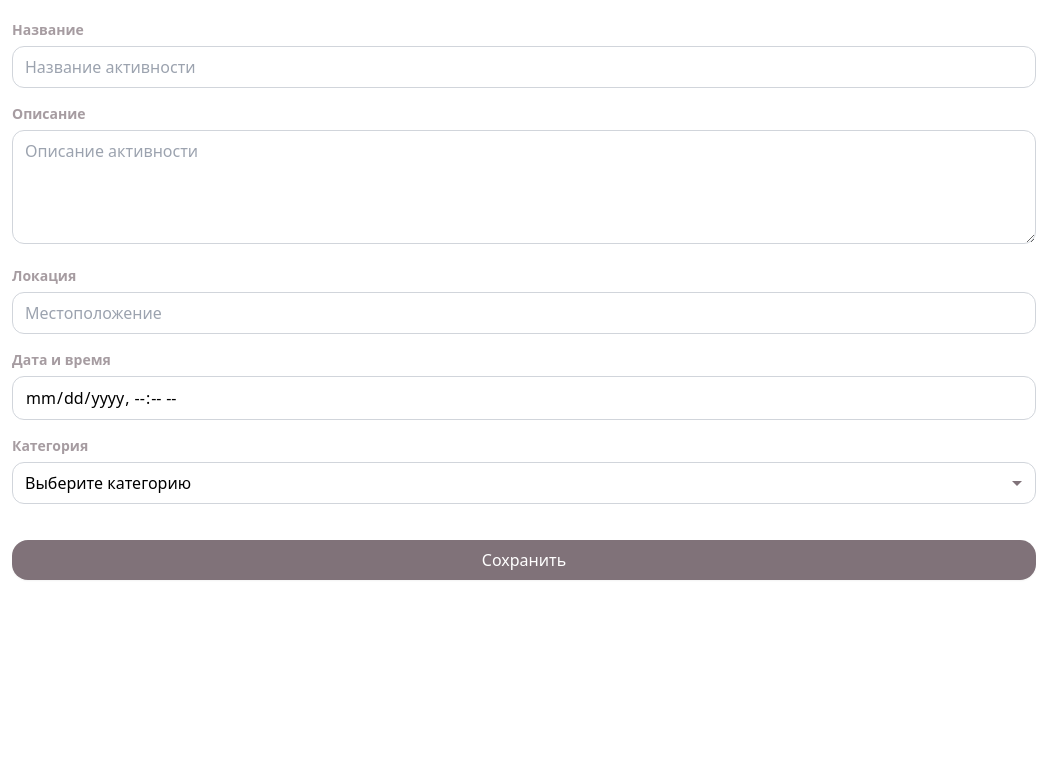
Test case: ActivityForm › shows validation errors for required fields
Click the button "Сохранить" at (524, 560), box [12, 540, 1036, 580]
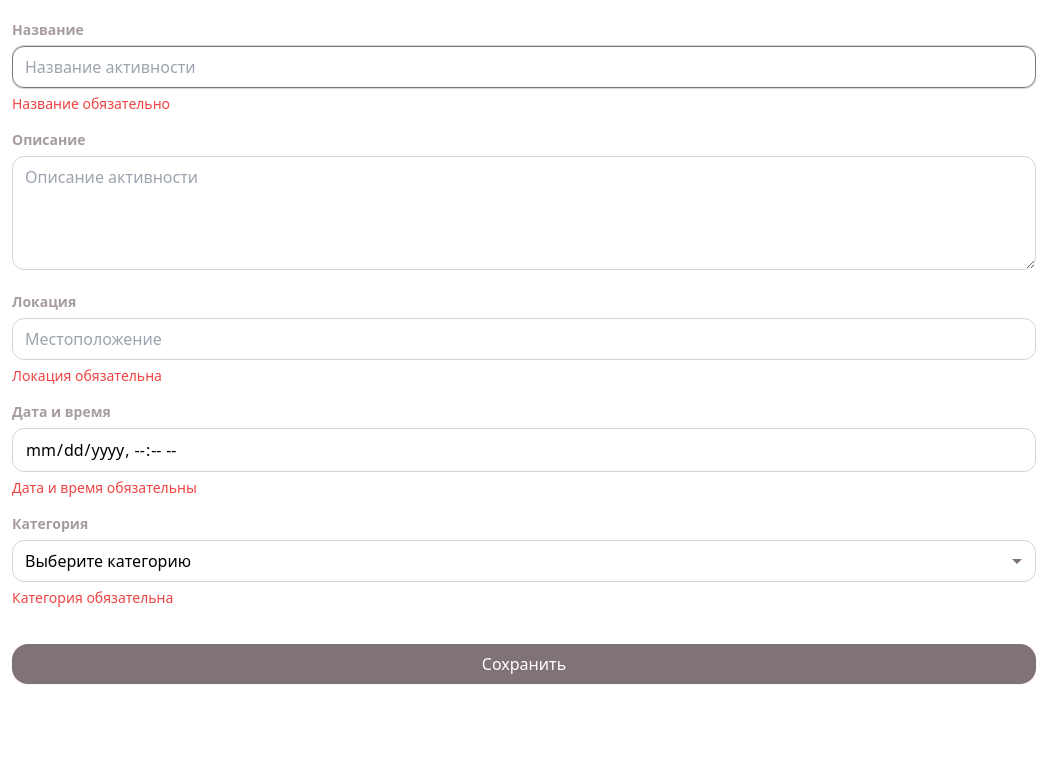
Expected: the text "Название обязательно" is shown, [12, 94, 170, 113]
Expected: the text "Локация обязательна" is shown, [12, 366, 162, 385]
Expected: the text "Дата и время обязательны" is shown, [12, 478, 197, 497]
